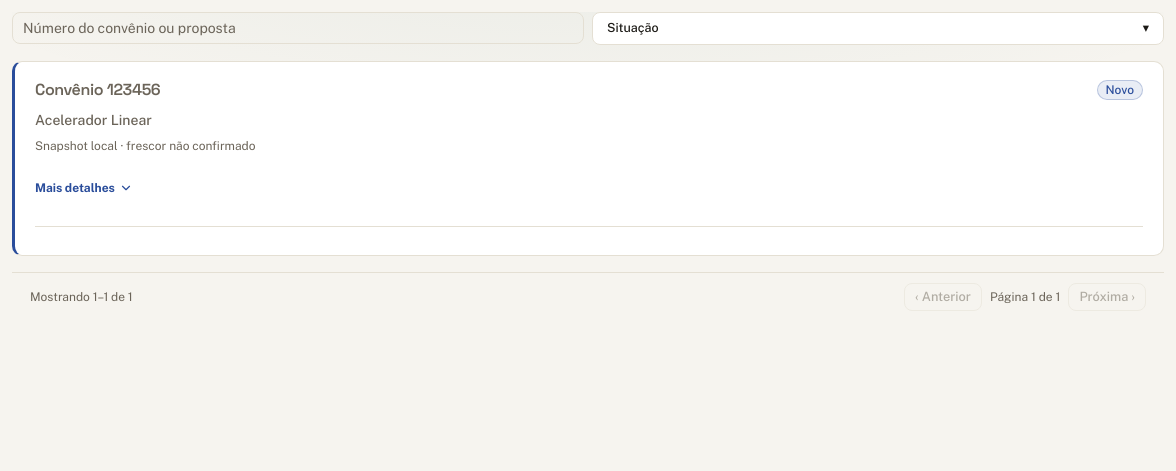
Radar legado › separa candidato não confirmado de carteira e explica equipamento existente
Expected: the heading "Convênio 123456" is shown, [35,78,160,102]
What coordinates should you click on to do the following:
click the button "Mais detalhes"
I would click on:
 (84, 188)
Its box is [35,166,133,210].
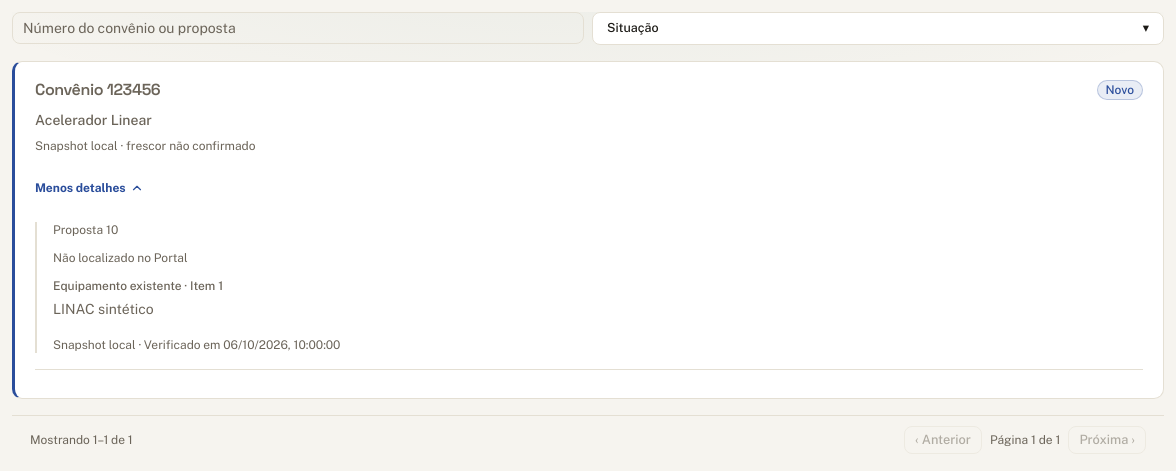
Expected: the text "Snapshot local · frescor não confirmado" is shown, [35,138,256,154]
Expected: the text "Não localizado no Portal" is shown, [53,251,188,265]
Expected: the text "Equipamento existente · Item 1" is shown, [53,279,223,293]
